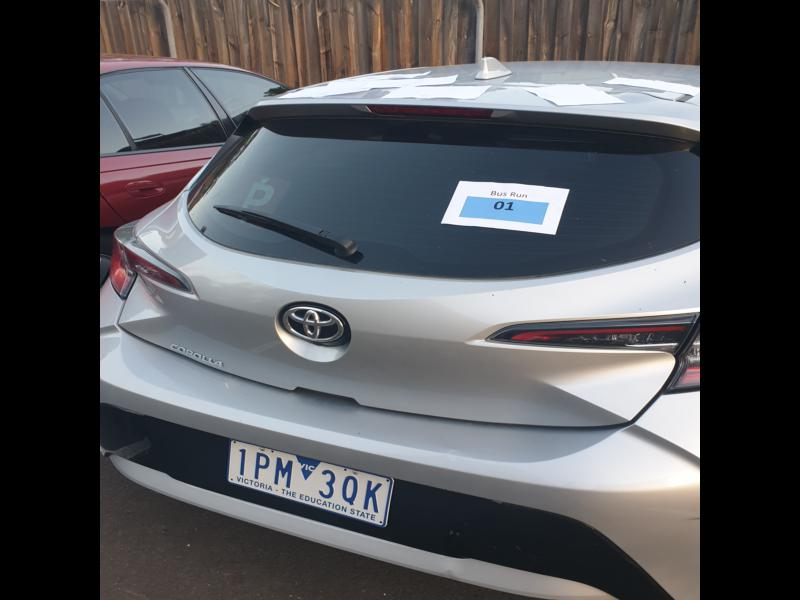BusRun: (459, 195, 548, 226)
PlateNo: (226, 439, 392, 530)
